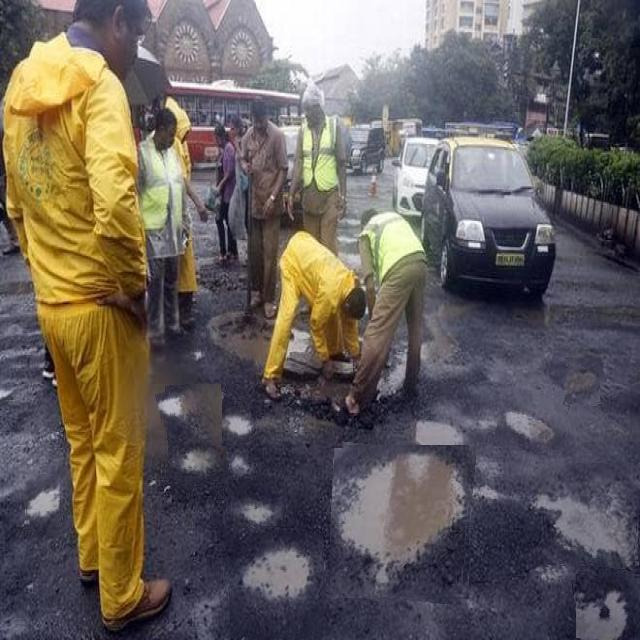Pothole: (330, 445, 473, 602), (532, 463, 640, 567), (227, 533, 326, 640), (160, 384, 226, 485), (573, 572, 640, 640), (497, 390, 569, 450), (207, 317, 263, 375), (230, 478, 281, 527), (24, 474, 60, 536), (565, 358, 602, 405), (222, 402, 256, 446)
